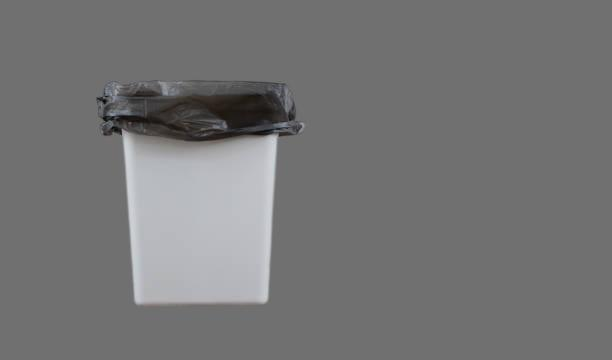garbage container: (92, 75, 308, 309)
